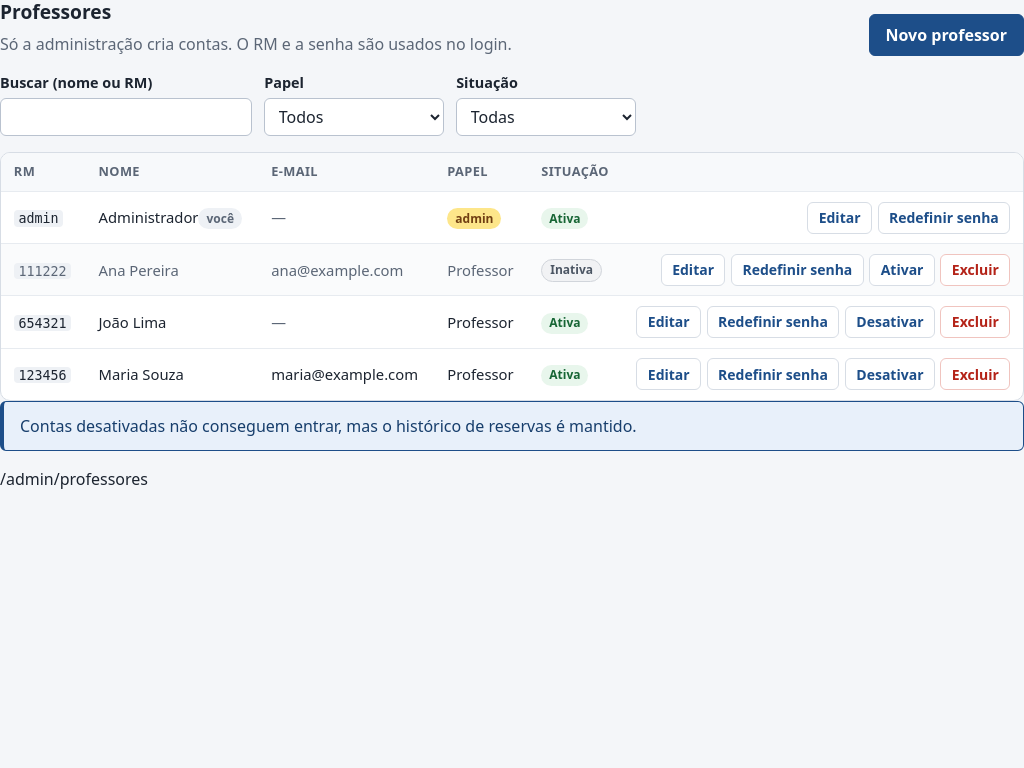
admin que redefine a própria senha é avisado antes e acaba no login com a mensagem
Click the button "Redefinir senha" in the row of "Administrador" at (944, 218), box [878,202,1010,234]
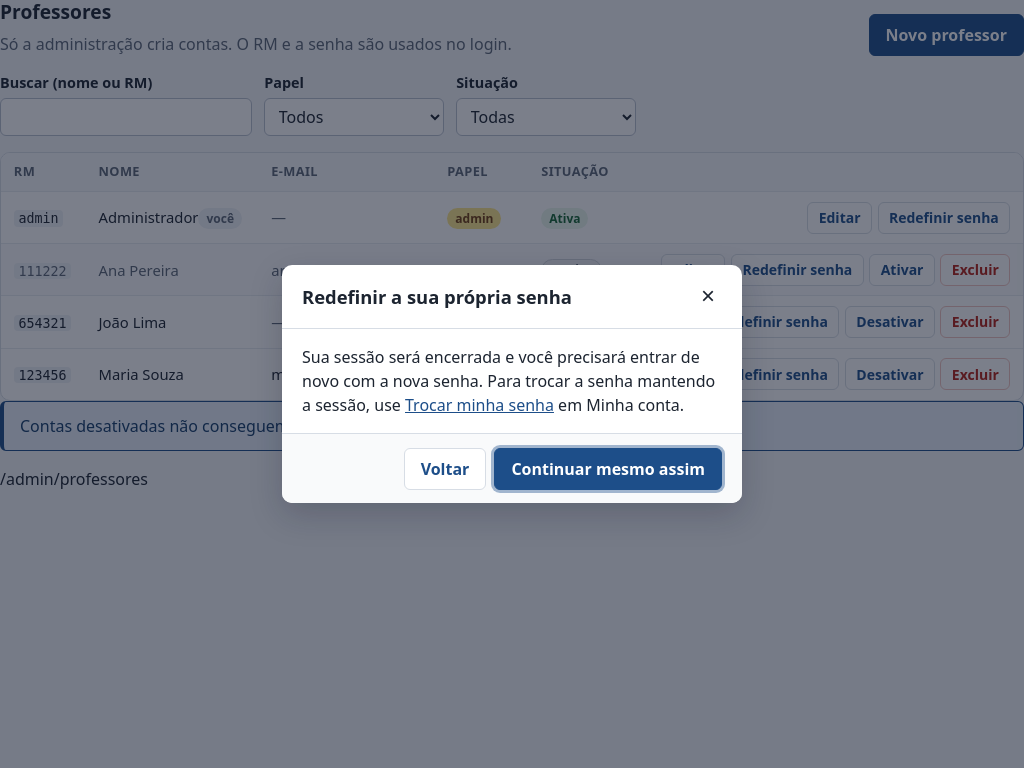
expect the text "Sua sessão será encerrada" is shown: met, box [302,346,700,392]
Click the button "Continuar mesmo assim" at (608, 469), box [494,448,722,490]
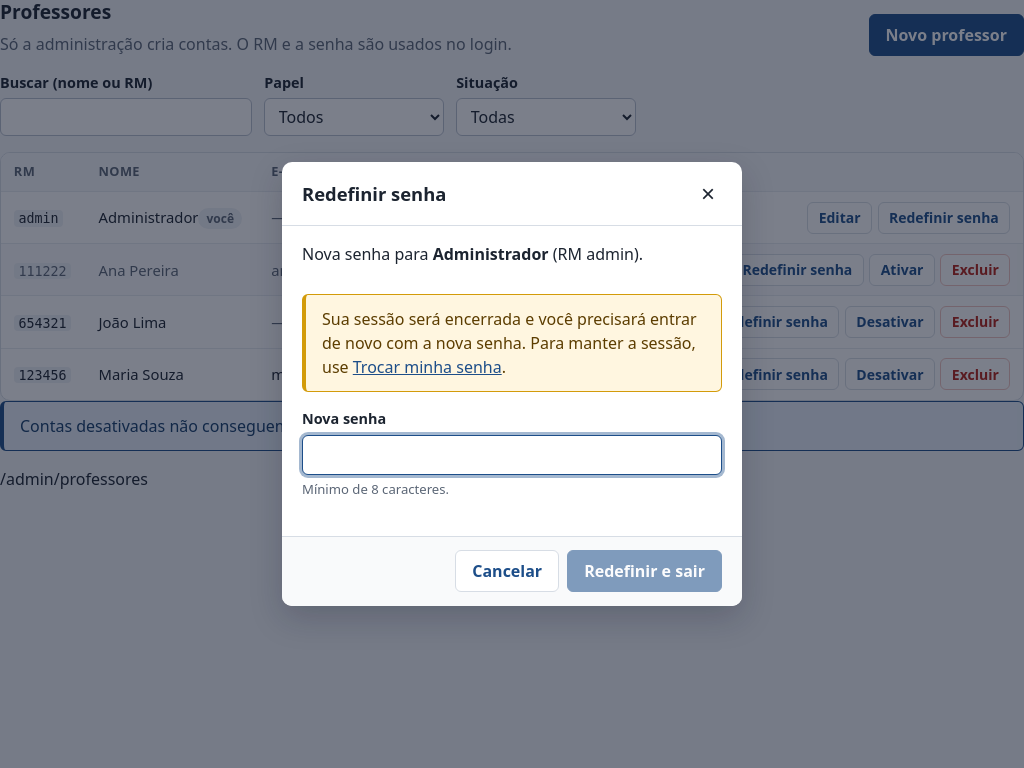
Type "outraSenha789" into the password field labelled "Nova senha" at (512, 455), box [302,435,722,475]
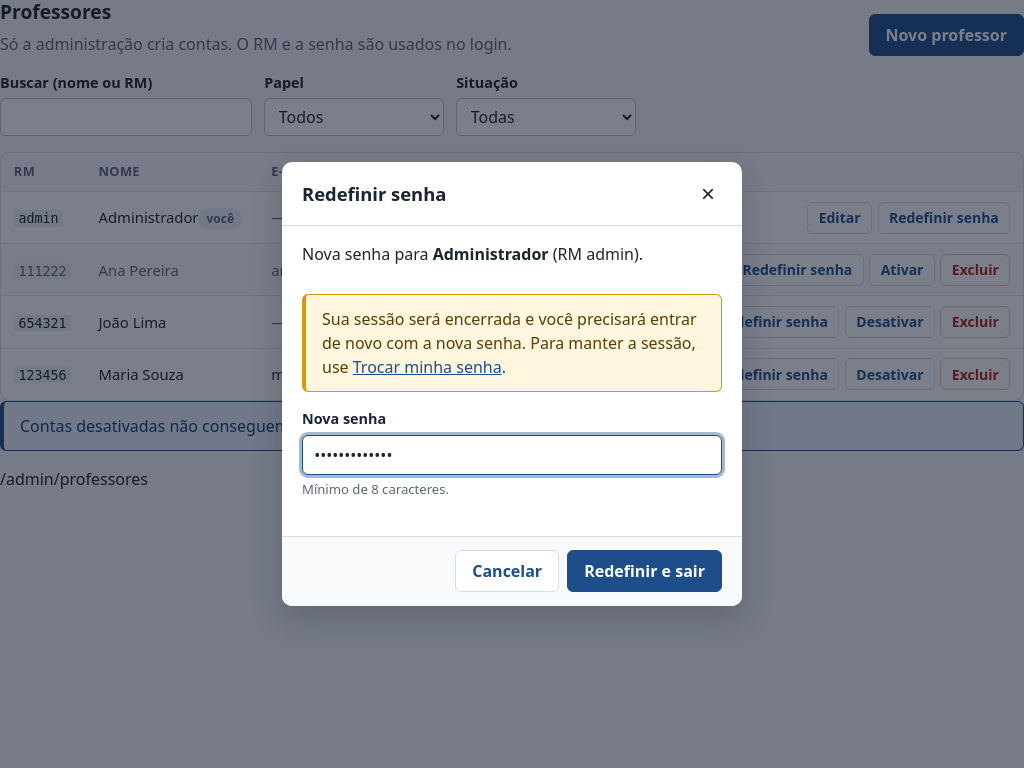
Click the button "Redefinir e sair" at (645, 571), box [567,550,722,592]
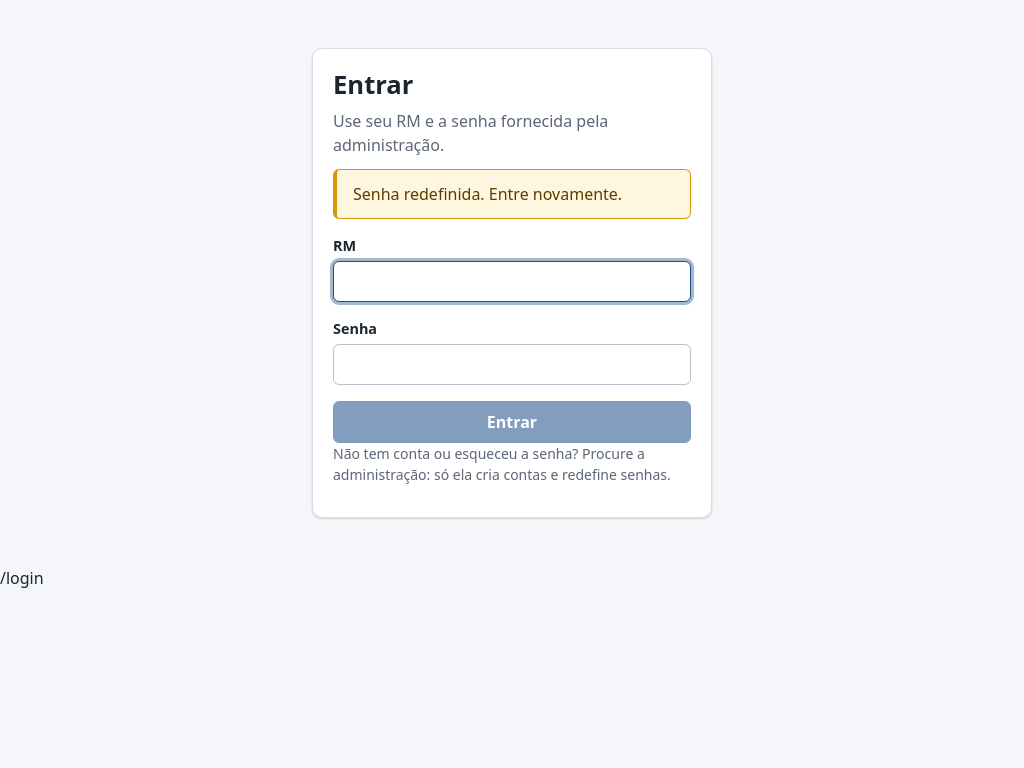
expect the text with test id "local" reads "/login": met, box [0,566,44,588]
expect the text "Senha redefinida. Entre novamente." is shown: met, box [353,182,622,206]
